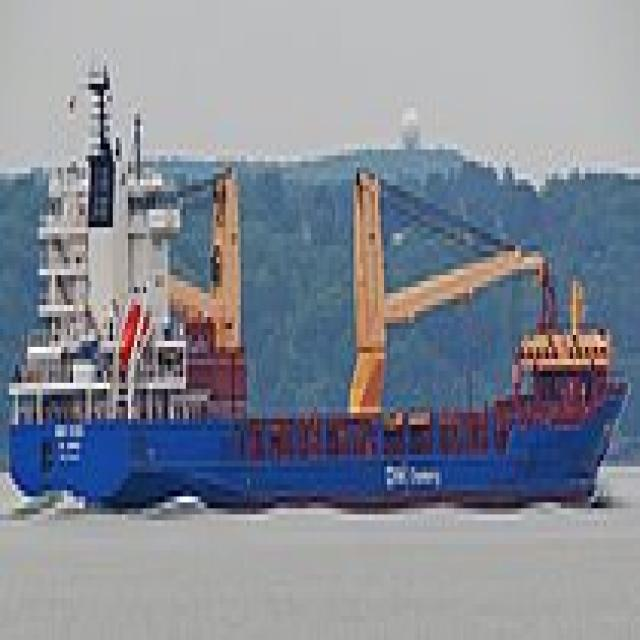Cargo: (3, 36, 631, 502)
